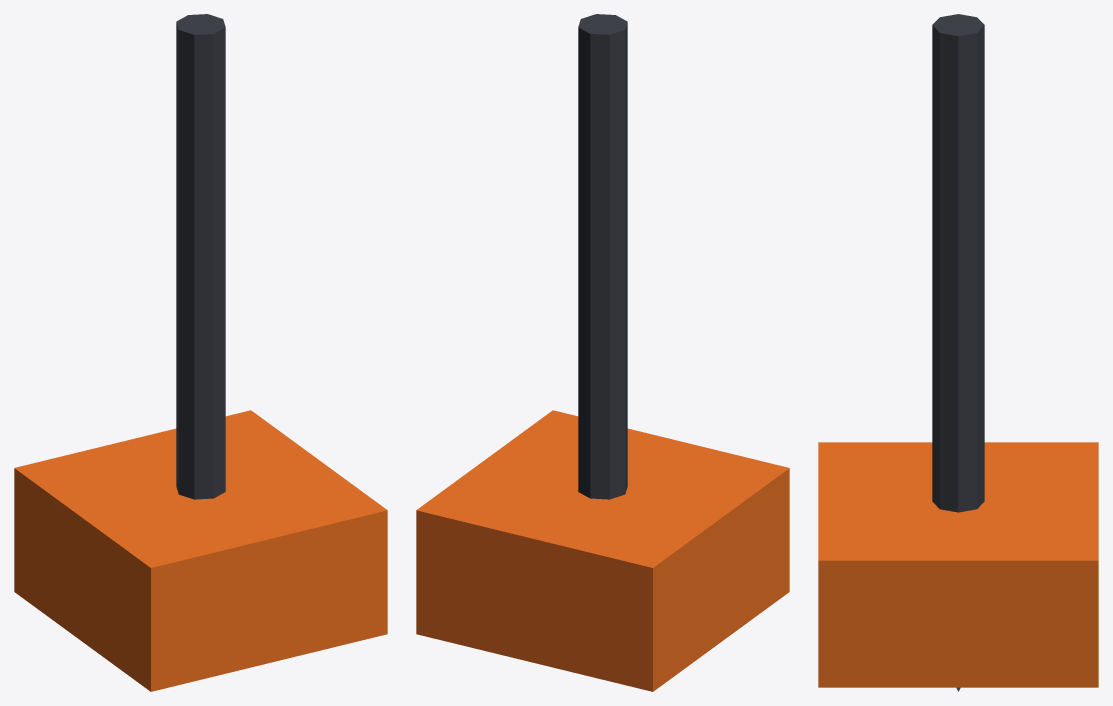
The model's file is colony-mining-drill.glb.
3 views of the same model, side by side, from view 1: azimuth 30°, elevation 25°; view 2: azimuth 150°, elevation 25°; view 3: azimuth 270°, elevation 25° (orthographic). The views are drawn at different scales.
Visible parts, largest first — view 1: mining_drill; view 2: mining_drill; view 3: mining_drill.
Boxes of the visible parts, x1,y1,x2,y2 form: mining_drill: (14, 14, 387, 691); mining_drill: (416, 14, 789, 691); mining_drill: (818, 14, 1098, 691).
Bounding box in the file's own units: 1.6 × 4.2 × 1.6.
